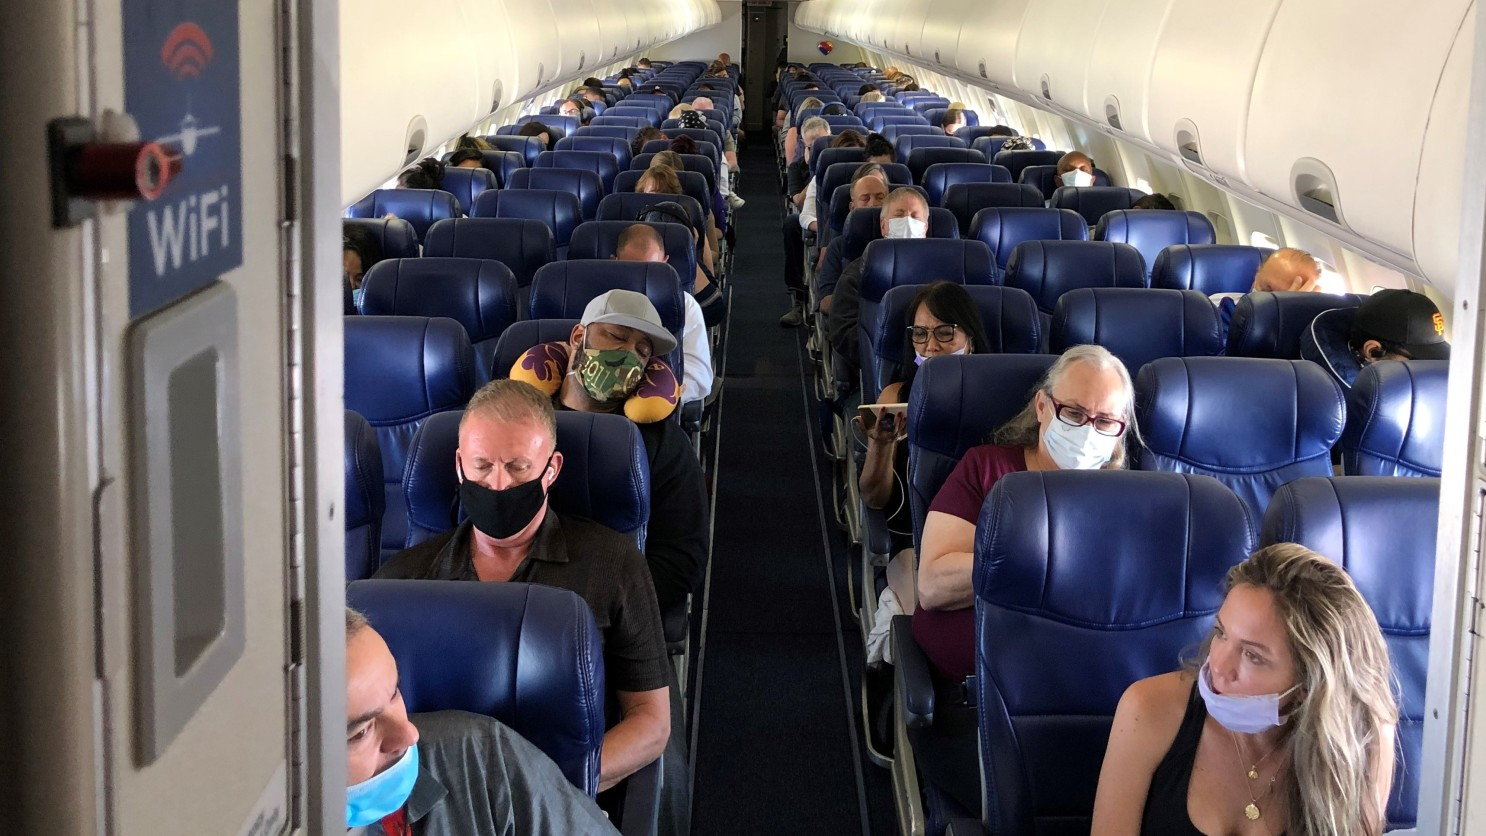with_incorrect_mask: (1197, 581, 1304, 743), (344, 655, 425, 812), (459, 422, 552, 540), (913, 310, 965, 366)
with_mask: (1049, 374, 1127, 466), (583, 312, 647, 400), (883, 194, 926, 236)
